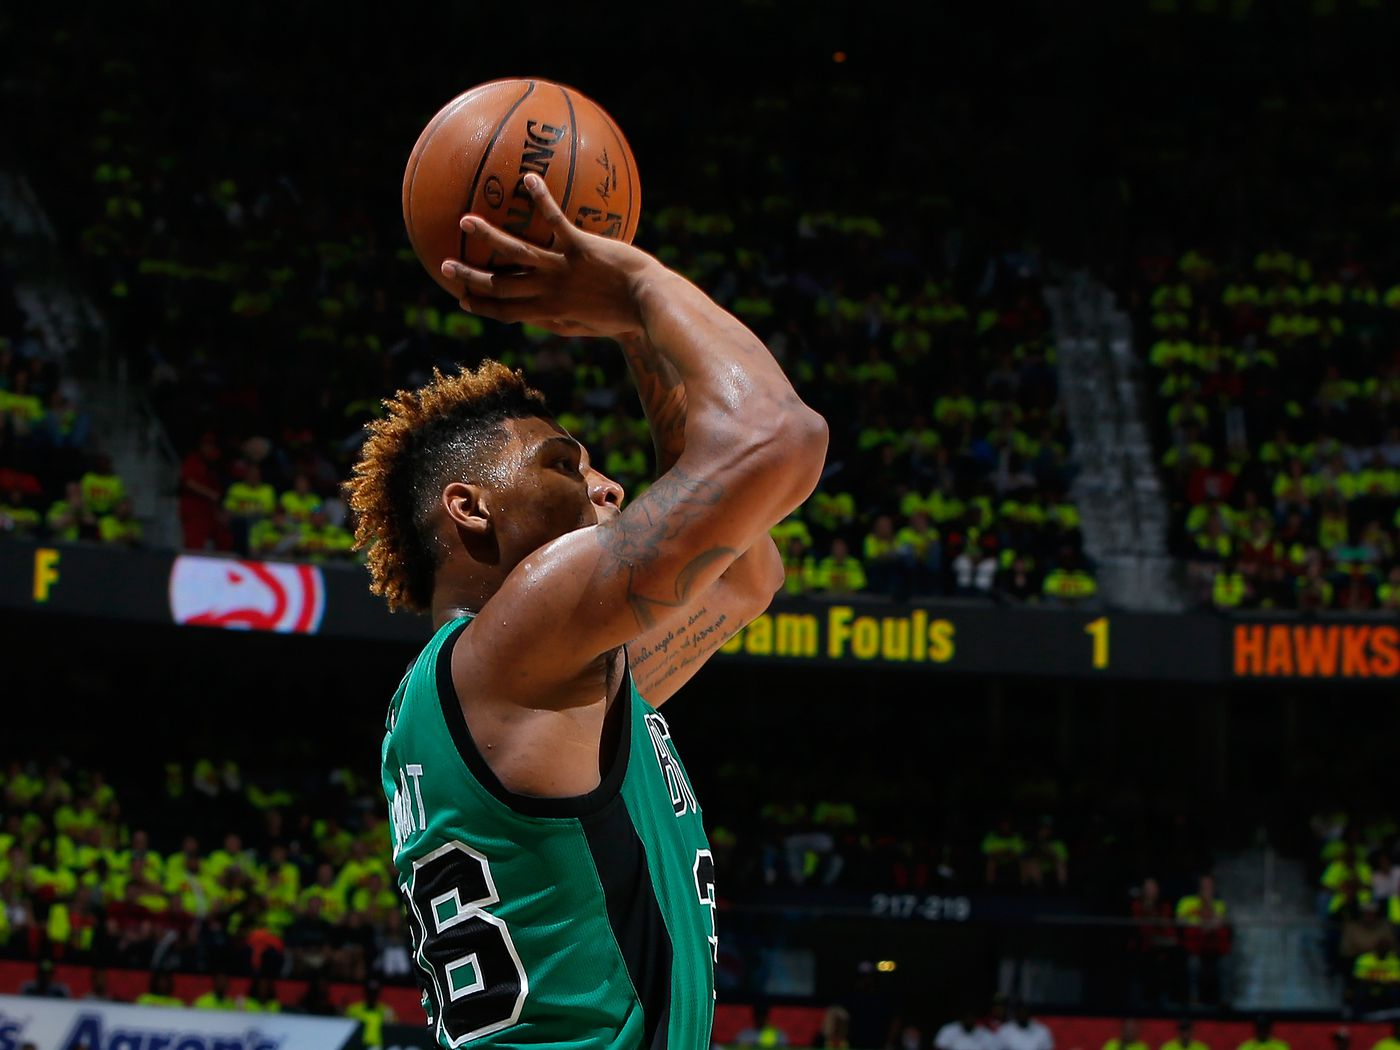Jumpshot: (400, 79, 830, 542)
